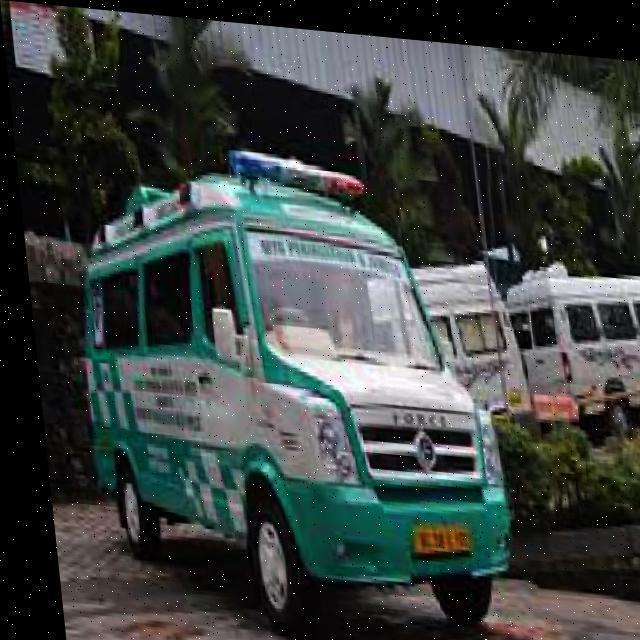Ambulance: (43, 121, 640, 640), (40, 490, 640, 640), (491, 245, 640, 434)
